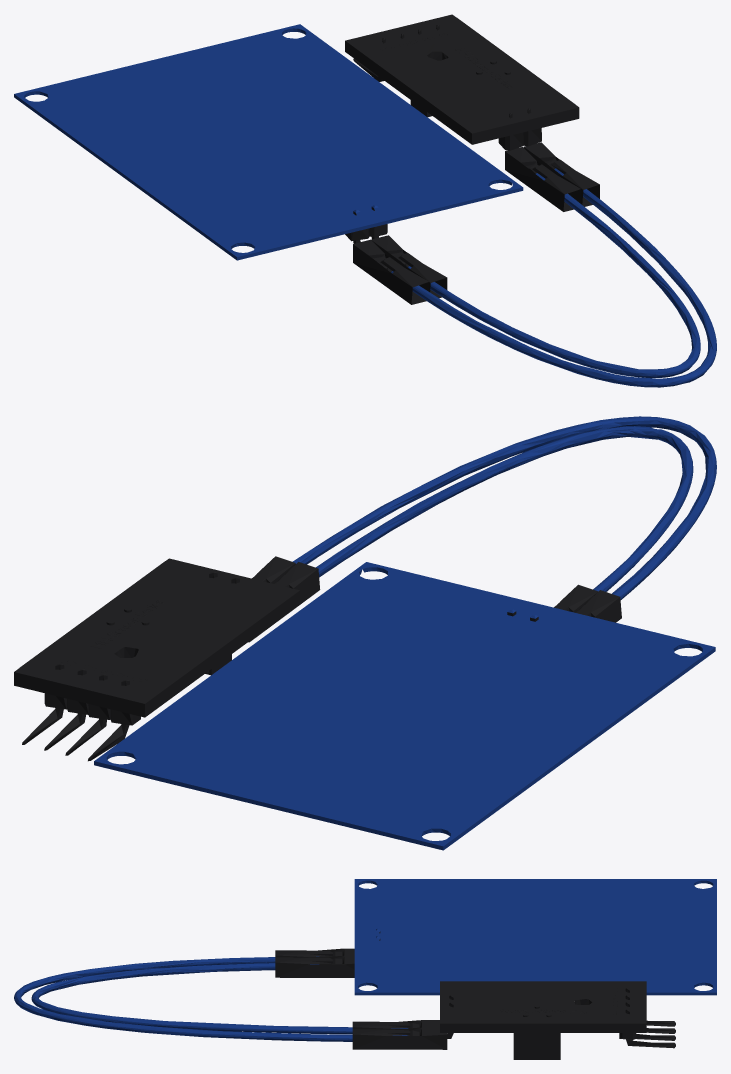
Rendered from rain-sensor.glb.
The picture shows the model from 3 angles, top to bottom: view 1: azimuth 30°, elevation 25°; view 2: azimuth 150°, elevation 25°; view 3: azimuth 270°, elevation 25°; orthographic projection. The views are drawn at different scales.
Visible parts, largest first — view 1: part_0, part_1; view 2: part_0, part_1; view 3: part_0, part_1.
Part boxes in pixels (box(x1,y1,x2,y2)): part_0: box(14, 24, 716, 387); part_1: box(345, 14, 599, 304); part_0: box(94, 416, 716, 850); part_1: box(14, 556, 621, 761); part_0: box(14, 879, 716, 1041); part_1: box(275, 931, 675, 1059).
Size of the model in its own units: 0.0552 by 0.00834 by 0.1047.
